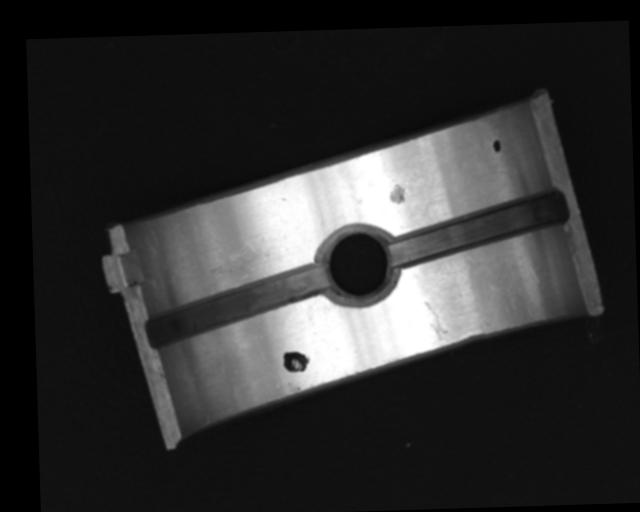blot: (280, 350, 309, 373), (491, 139, 502, 153)
bruise: (389, 182, 405, 205)
gap: (144, 262, 329, 346), (387, 190, 571, 261)
hole: (316, 222, 397, 305)
nick: (423, 299, 448, 346)
scratch: (181, 239, 263, 290)
